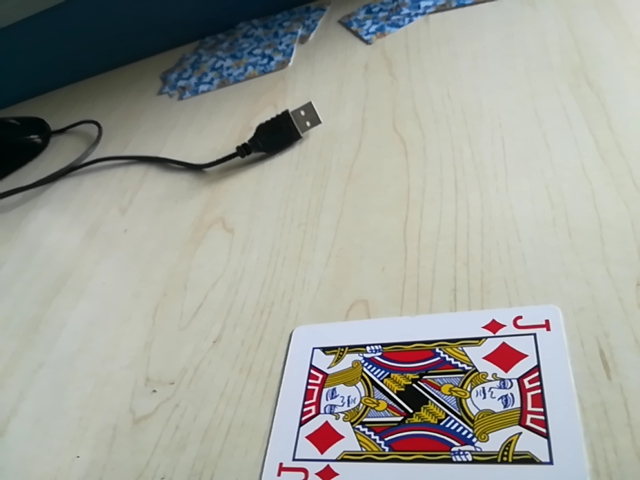fk j: (483, 311, 552, 339), (276, 461, 343, 480)
